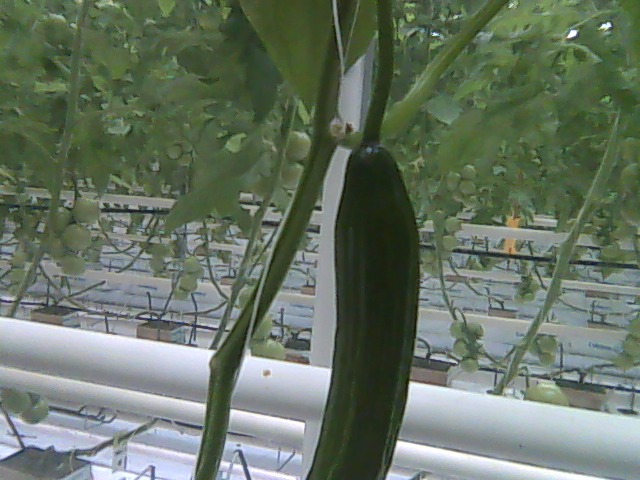concombre: (302, 126, 424, 480)
